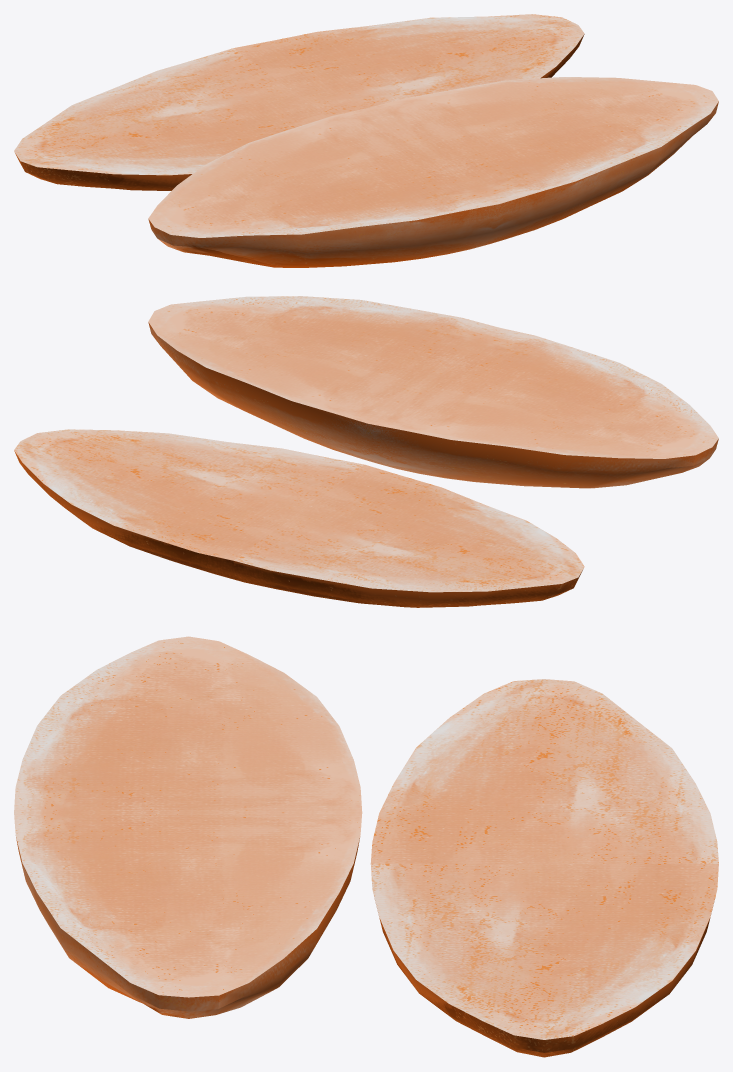
The model's file is ekmek_tam_acik.fbx.
The picture shows the model from 3 angles, top to bottom: view 1: azimuth 30°, elevation 25°; view 2: azimuth 150°, elevation 25°; view 3: azimuth 270°, elevation 25°; orthographic projection. The views are drawn at different scales.
Parts seen in each view (by area): view 1: Sphere.013, Sphere.014; view 2: Sphere.013, Sphere.014; view 3: Sphere.013, Sphere.014.
Boxes of the visible parts, x1,y1,x2,y2 form: Sphere.013: (148, 77, 718, 267); Sphere.014: (14, 14, 584, 190); Sphere.013: (148, 296, 718, 488); Sphere.014: (14, 429, 584, 607); Sphere.013: (14, 636, 362, 1018); Sphere.014: (370, 679, 718, 1057).
Bounding box in the file's own units: 291 × 41.16 × 240.
